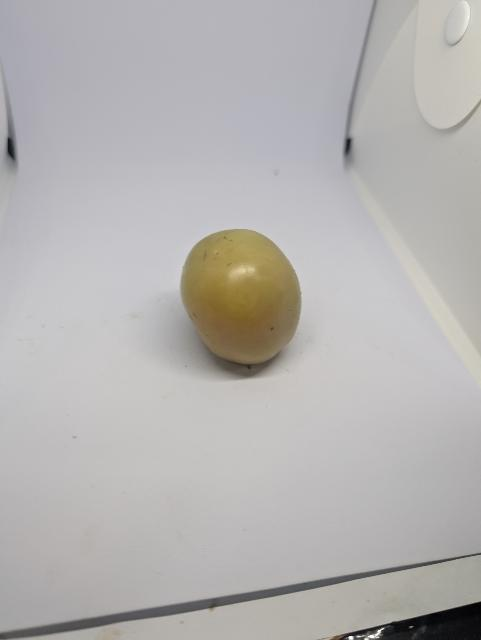breaker: (174, 220, 310, 373)
